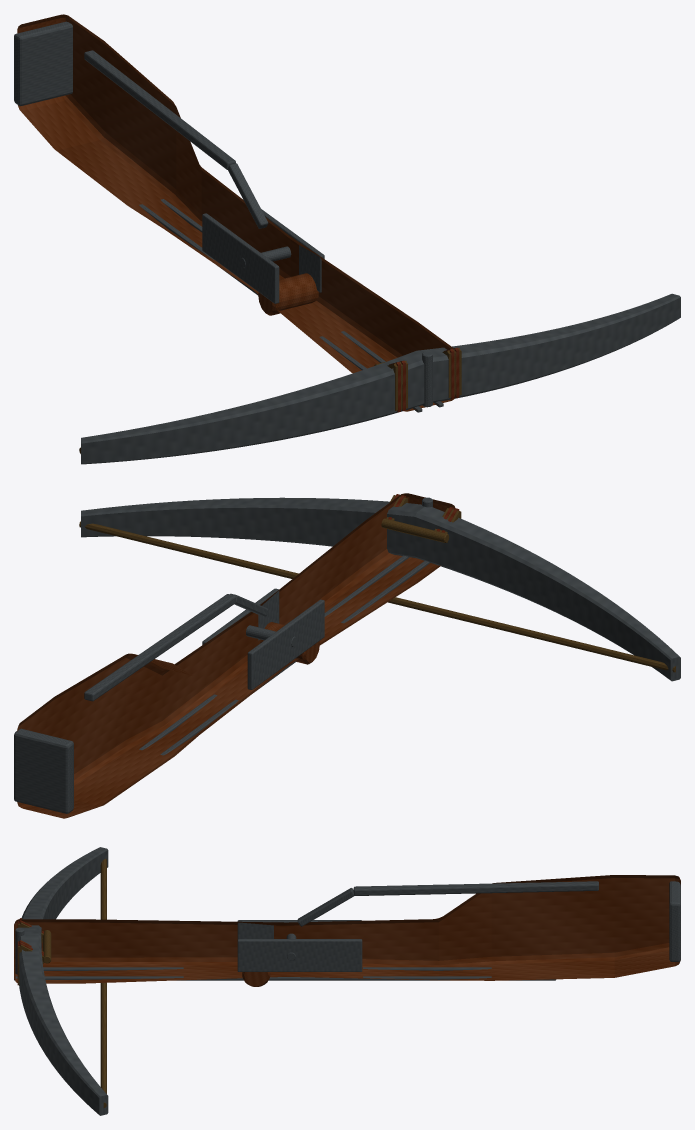
Rendered from AuxiliaHeavyArbalest.fbx.
3 renders of one model, top to bottom at view 1: azimuth 30°, elevation 25°; view 2: azimuth 150°, elevation 25°; view 3: azimuth 270°, elevation 25°, orthographic. The views are drawn at different scales.
Visible parts, largest first — view 1: AuxiliaHeavyArbalest_GameExport; view 2: AuxiliaHeavyArbalest_GameExport; view 3: AuxiliaHeavyArbalest_GameExport.
Part boxes in pixels (bbox=[...]): AuxiliaHeavyArbalest_GameExport: bbox=[14, 14, 680, 464]; AuxiliaHeavyArbalest_GameExport: bbox=[14, 493, 680, 818]; AuxiliaHeavyArbalest_GameExport: bbox=[14, 847, 680, 1115].
Size of the model in its own units: 30.32 by 34.2 by 6.14.
